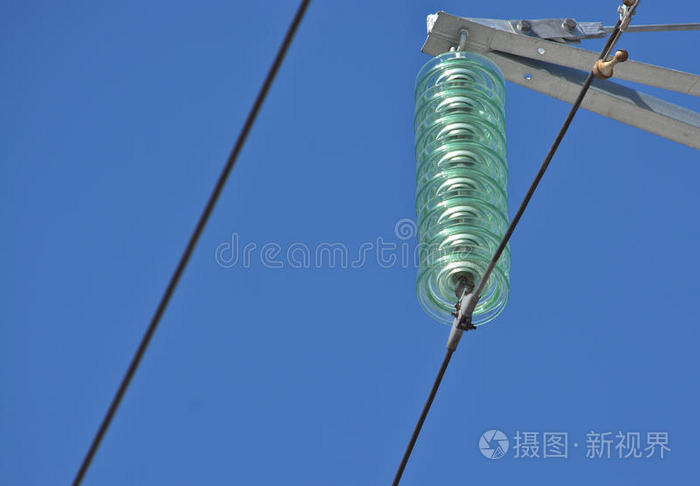insulator: (411, 55, 511, 331)
